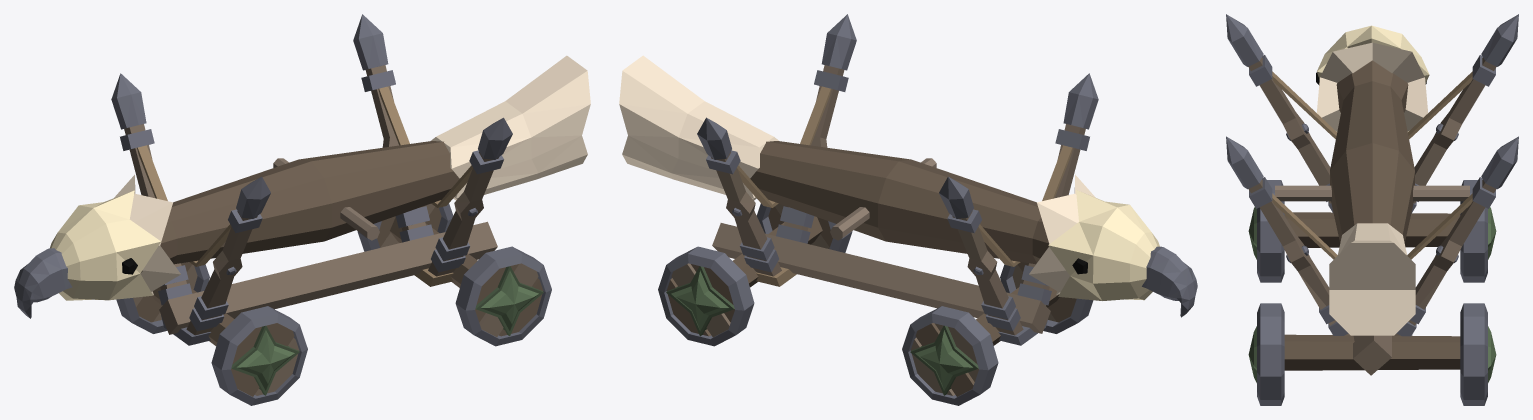
The model's file is _BETTERING_RAM.fbx.
3 renders of one model, left to right at view 1: azimuth 30°, elevation 25°; view 2: azimuth 150°, elevation 25°; view 3: azimuth 270°, elevation 25°, orthographic. The views are drawn at different scales.
Parts seen in each view (by area): view 1: BETTERING_RAM; view 2: BETTERING_RAM; view 3: BETTERING_RAM.
Boxes of the visible parts, x1,y1,x2,y2 form: BETTERING_RAM: (14, 14, 590, 405); BETTERING_RAM: (619, 14, 1197, 405); BETTERING_RAM: (1226, 14, 1518, 405).
Bounding box in the file's own units: 581 × 241 × 254.
